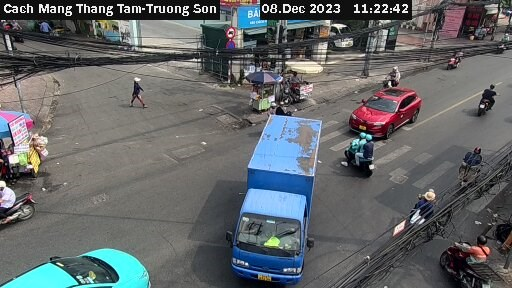car: (4, 246, 153, 288), (346, 87, 425, 142)
motorbike: (437, 234, 503, 288), (339, 135, 386, 178), (1, 179, 37, 225), (474, 82, 503, 123), (374, 68, 403, 93), (444, 50, 470, 76)
truck: (229, 111, 324, 281)
